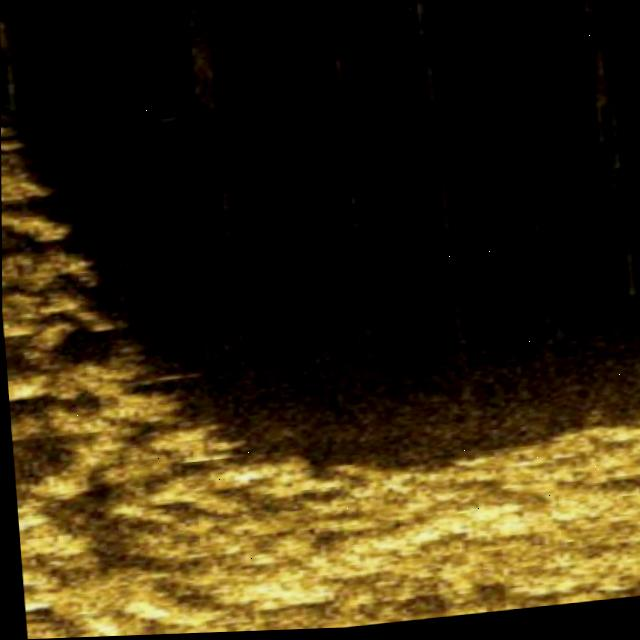bedrock group: (0, 61, 640, 640)
